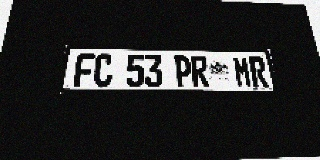3: (145, 55, 163, 87)
5: (126, 54, 144, 87)
C: (93, 54, 113, 87)
F: (73, 53, 95, 87)
M: (232, 56, 253, 87)
P: (174, 55, 192, 87)
R: (248, 57, 269, 87), (191, 56, 210, 87)
